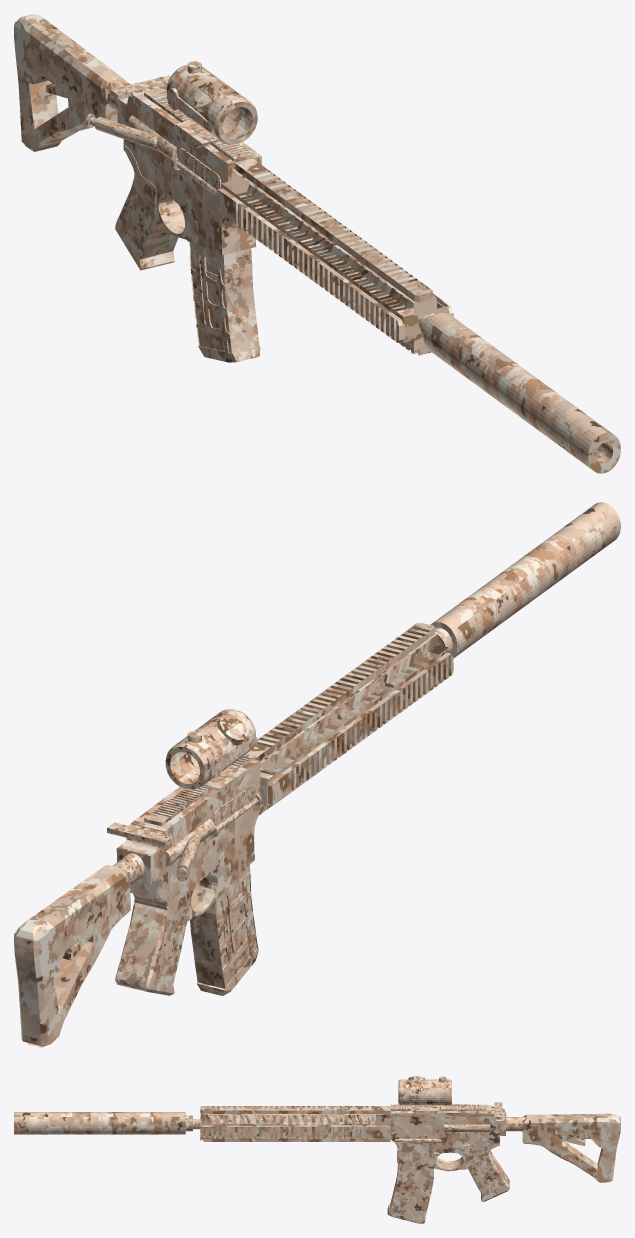
File: arfull.fbx
3 renders of one model, top to bottom at view 1: azimuth 30°, elevation 25°; view 2: azimuth 150°, elevation 25°; view 3: azimuth 270°, elevation 25°, orthographic. The views are drawn at different scales.
Visible parts, largest first — view 1: Cube.002, silence, Cube.001, Cube.013, Cube.003, Cube.006, Cube.007, pricel, Cube, Cube.004, Cube.009, Cube.010; view 2: Cube.001, Cube.002, silence, Cube.013, Cube, Cube.003, Cube.006, pricel, Cube.007, Cube.004, Cube.010; view 3: Cube.002, Cube.001, silence, Cube.008, Cube.013, Cube.003, Cube.007, Cube, pricel, Cube.005, Cube.006, Cube.004 (+3 smaller).
Part boxes in pixels (<box>): Cube.002: <box>85,86,261,255</box>; silence: <box>421,312,620,473</box>; Cube.001: <box>14,14,130,151</box>; Cube.013: <box>189,242,260,362</box>; Cube.003: <box>221,166,448,350</box>; Cube.006: <box>217,188,405,342</box>; Cube.007: <box>235,159,432,302</box>; pricel: <box>166,61,257,144</box>; Cube: <box>115,145,178,270</box>; Cube.004: <box>144,87,251,161</box>; Cube.009: <box>175,120,219,148</box>; Cube.010: <box>110,75,170,99</box>; Cube.001: <box>14,864,130,1047</box>; Cube.002: <box>116,759,261,920</box>; silence: <box>430,502,620,658</box>; Cube.013: <box>190,865,258,995</box>; Cube: <box>115,889,189,995</box>; Cube.003: <box>260,633,448,810</box>; Cube.006: <box>268,652,453,805</box>; pricel: <box>165,709,257,789</box>; Cube.007: <box>246,623,434,760</box>; Cube.004: <box>144,754,252,825</box>; Cube.010: <box>107,822,172,846</box>; Cube.002: <box>390,1104,506,1171</box>; Cube.001: <box>522,1113,620,1182</box>; silence: <box>14,1112,192,1134</box>; Cube.008: <box>200,1125,390,1138</box>; Cube.013: <box>387,1163,434,1223</box>; Cube.003: <box>200,1109,390,1138</box>; Cube.007: <box>200,1106,390,1113</box>; Cube: <box>466,1143,509,1201</box>; pricel: <box>398,1076,451,1105</box>; Cube.005: <box>200,1138,390,1141</box>; Cube.006: <box>200,1114,390,1123</box>; Cube.004: <box>391,1104,486,1111</box>.
Bounding box in the file's own units: 35.89 × 114 × 439.
